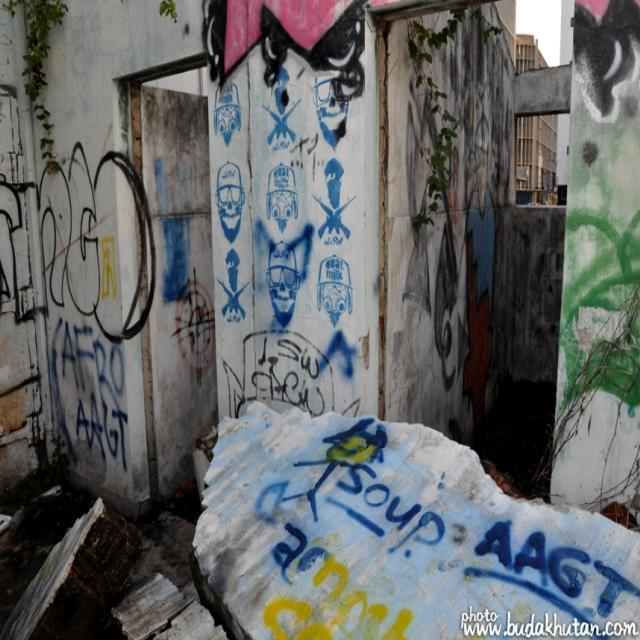-: (258, 415, 640, 640), (202, 0, 366, 413), (400, 13, 495, 404), (0, 140, 156, 341), (565, 206, 640, 408), (48, 318, 128, 472), (572, 0, 640, 123), (172, 266, 212, 366)
